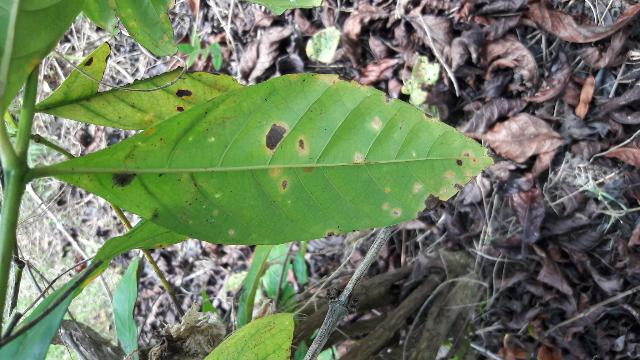rust_level_2: (28, 76, 491, 245)
